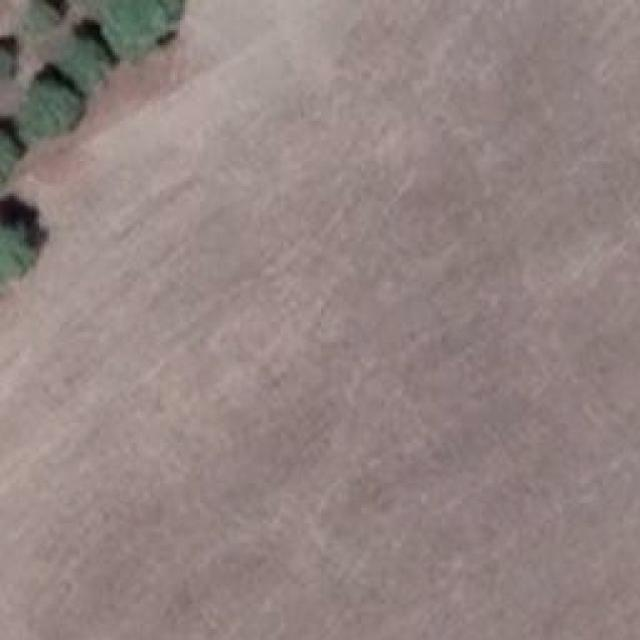Tree: (105, 0, 184, 55), (0, 201, 45, 271), (29, 80, 78, 134), (66, 38, 102, 82), (0, 38, 19, 82), (0, 131, 17, 176), (34, 0, 56, 25)
